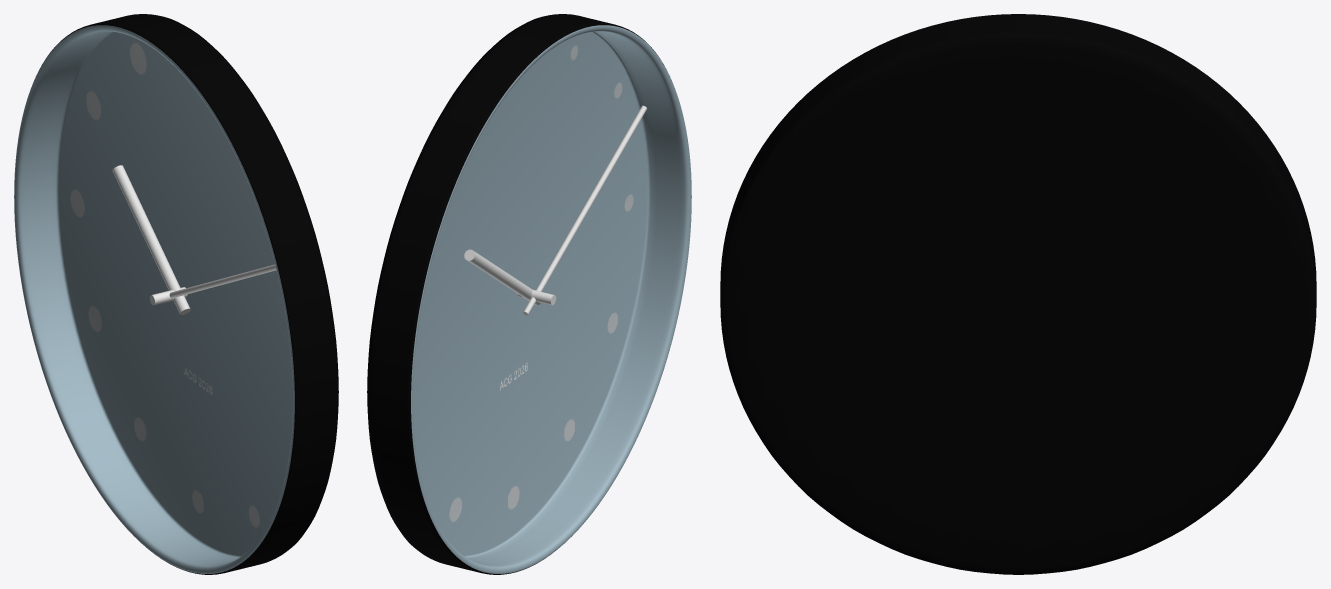
The model's file is clock.gltf.
3 renders of one model, left to right at view 1: azimuth 30°, elevation 25°; view 2: azimuth 150°, elevation 25°; view 3: azimuth 270°, elevation 25°, orthographic. The views are drawn at different scales.
Visible parts, largest first — view 1: 円柱, 円柱.002, 円柱.001; view 2: 円柱, 円柱.001, 円柱.002; view 3: 円柱.
Boxes of the visible parts, x1,y1,x2,y2 form: 円柱: (14, 14, 338, 574); 円柱.002: (112, 165, 190, 314); 円柱.001: (169, 264, 276, 298); 円柱: (367, 14, 691, 574); 円柱.001: (523, 105, 647, 315); 円柱.002: (464, 249, 540, 305); 円柱: (720, 14, 1316, 574).
Bounding box in the file's own units: 0.4751 × 4.54 × 4.54.
Materials: 2 (1 with a texture image).
